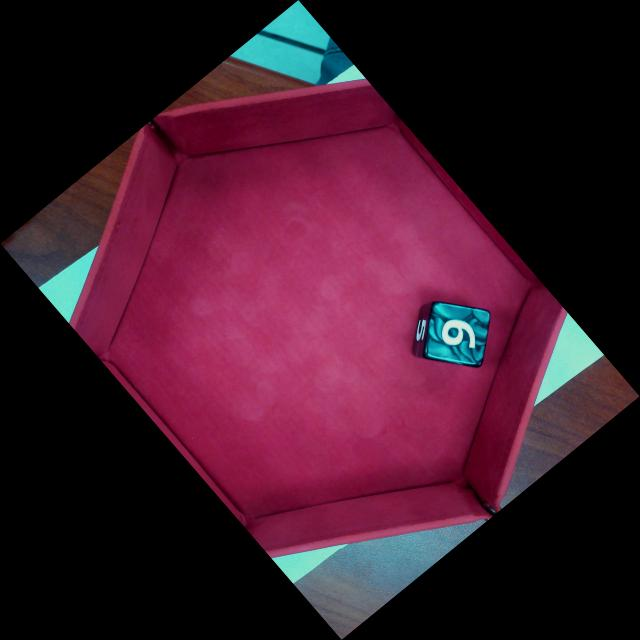dice: (428, 300, 489, 367)
